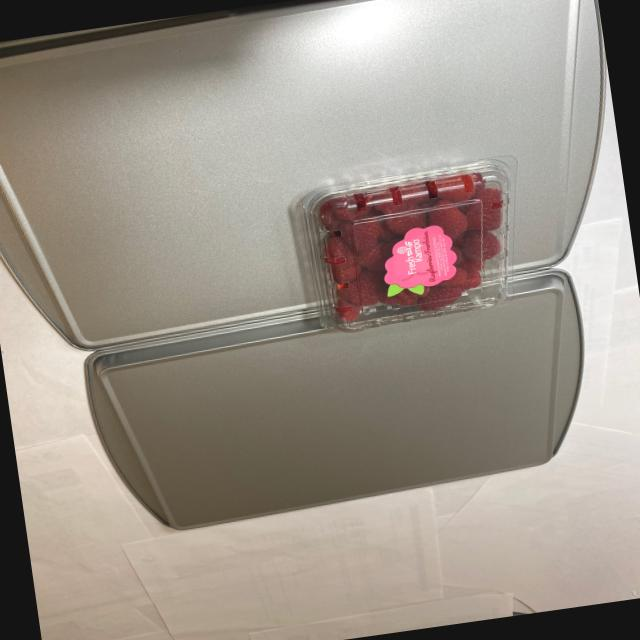raspberries: (310, 155, 516, 326)
